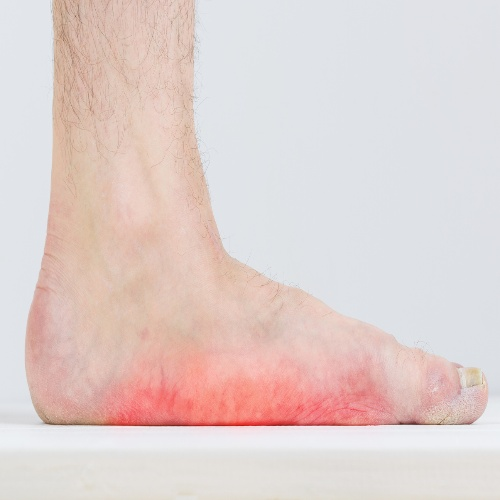Top_Foot: (25, 247, 487, 427)
